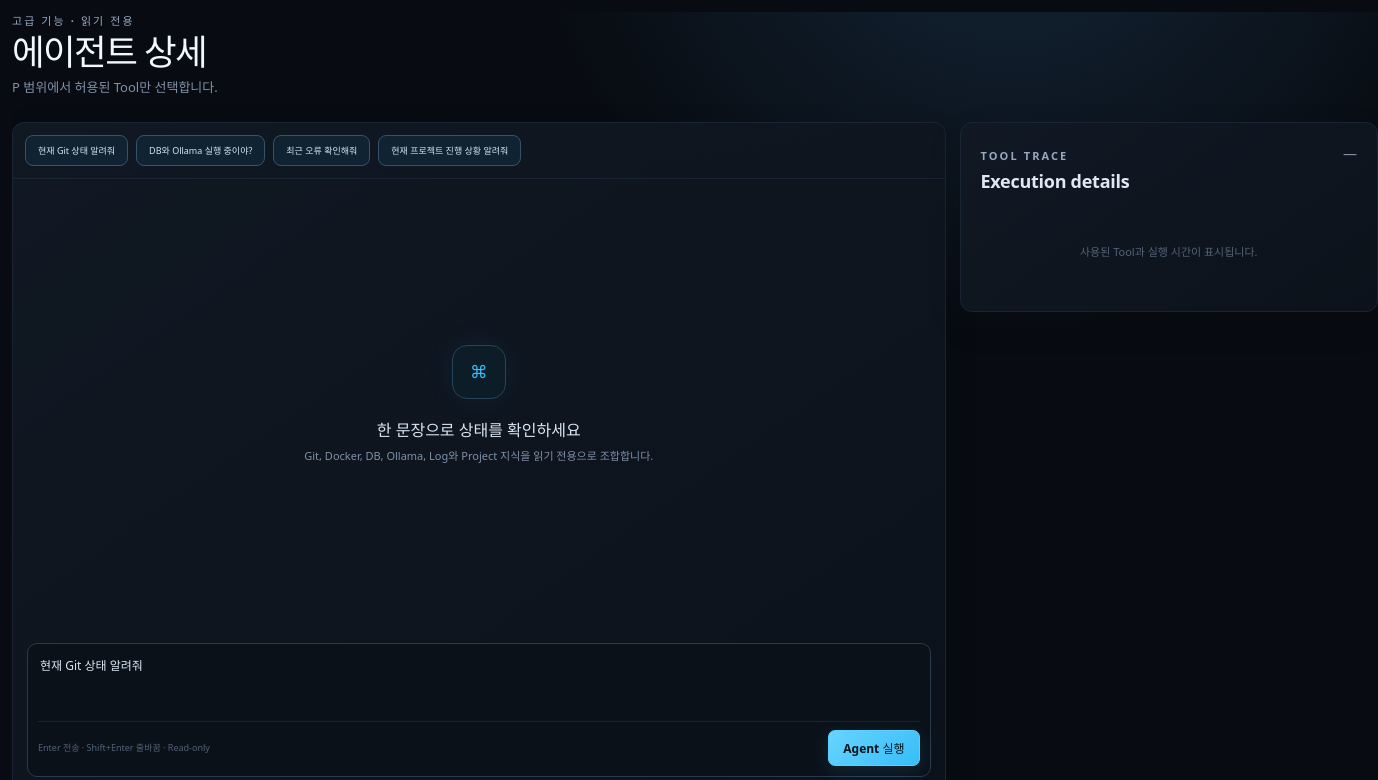
Test: Agent input reset › clears immediately after button and keeps the submitted question in the result
The width and height of the screenshot is (1378, 780).
Replace the text in the text box named "Agent 질문" with "보낸 질문" at (479, 685), box [38,654,920,716]
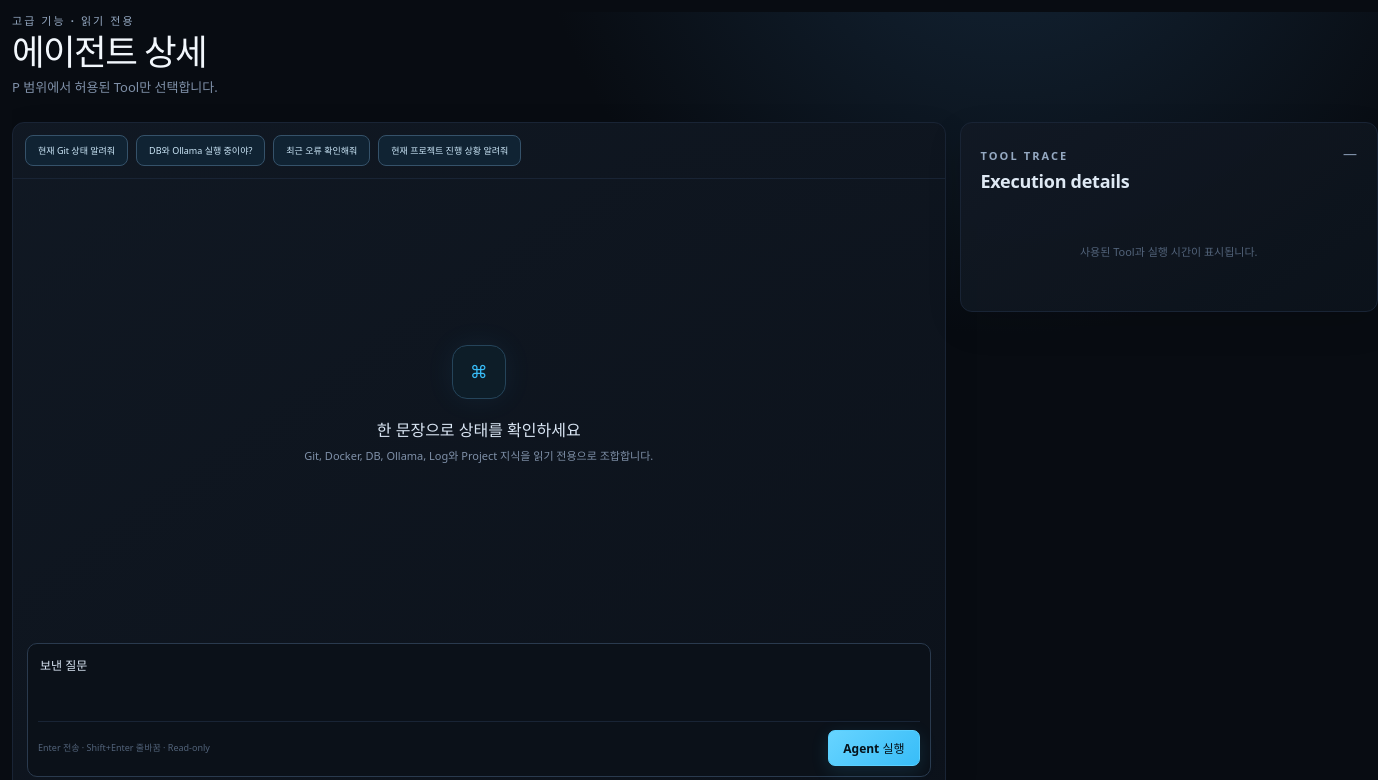
Click the button "Agent 실행" at (874, 748), box [828,730,920,766]
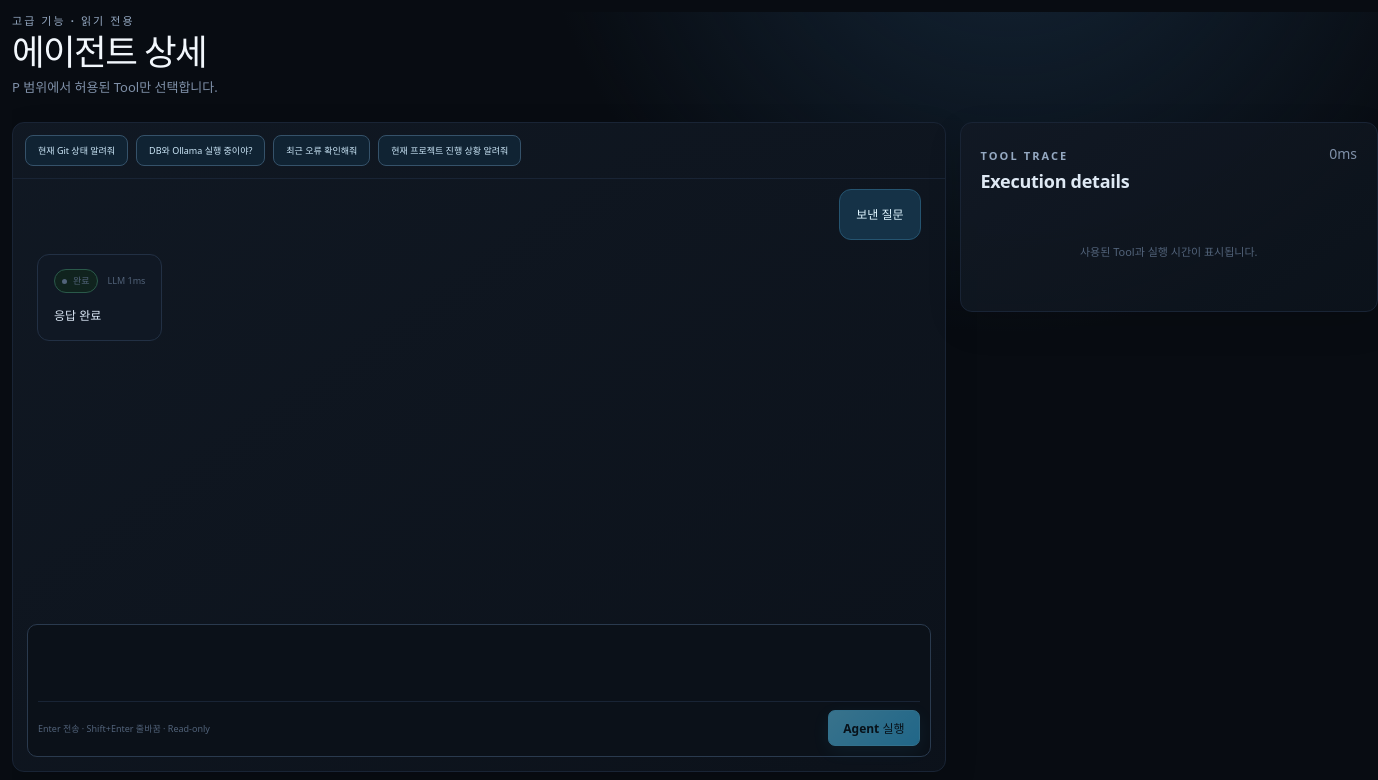
Expected: the text box named "Agent 질문" is empty, [38,635,920,696]
Expected: the text "보낸 질문" is shown, [839,189,920,240]
